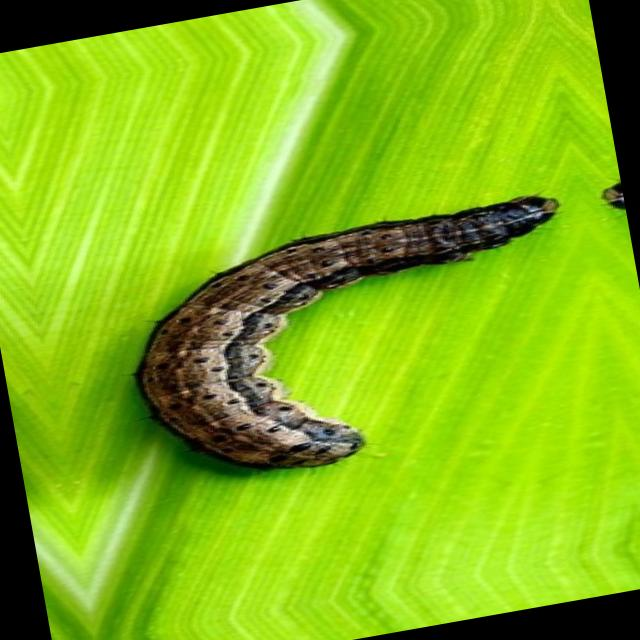Armyworm: (90, 174, 613, 497)
